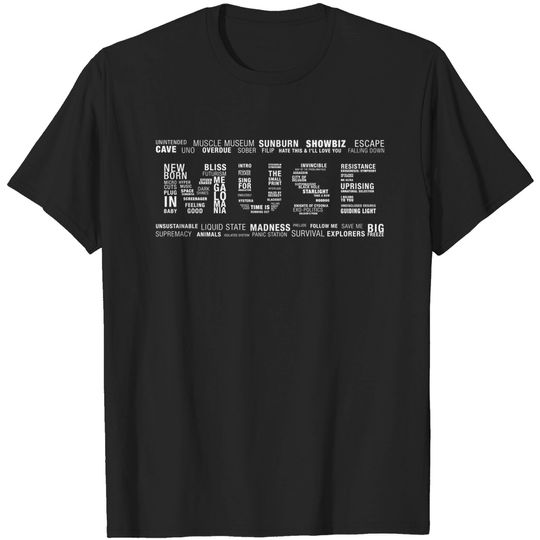design: (152, 136, 387, 240)
